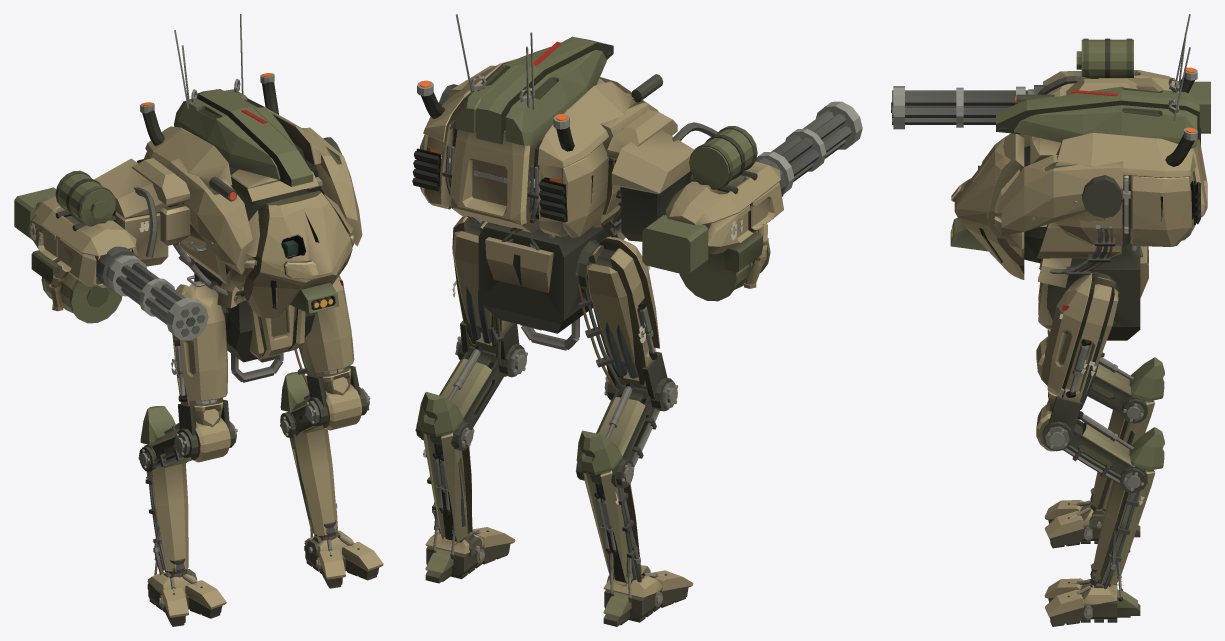
Rendered from rampart-stilt.glb.
The picture shows the model from 3 angles, left to right: view 1: azimuth 30°, elevation 25°; view 2: azimuth 150°, elevation 25°; view 3: azimuth 270°, elevation 25°; orthographic projection. The views are drawn at different scales.
Parts seen in each view (by area): view 1: Part_Torso, Part_Pod_R, Part_Thigh_R, Part_Pelvis, Part_Cannon_R, Part_PodSpin_R, Part_Thigh_L, Part_Cannon_L, Part_Foot_R, Part_Foot_L, Part_Shin_R, Part_Shin_L; view 2: Part_Torso, Part_Pod_R, Part_Pelvis, Part_Thigh_R, Part_Cannon_L, Part_Cannon_R, Part_Shin_R, Part_Shin_L, Part_PodSpin_R, Part_Thigh_L, Part_Foot_R, Part_Foot_L; view 3: Part_Torso, Part_Thigh_L, Part_Pod_R, Part_Pelvis, Part_Cannon_L, Part_PodSpin_R, Part_Shin_L, Part_Foot_L, Part_Cannon_R, Part_Foot_R, Part_Shin_R.
Part boxes in pixels (x1=…): Part_Torso: x1=137, y1=14, x2=362, y2=318; Part_Pod_R: x1=14, y1=158, x2=190, y2=323; Part_Thigh_R: x1=171, y1=281, x2=230, y2=435; Part_Pelvis: x1=194, y1=261, x2=314, y2=382; Part_Cannon_R: x1=138, y1=406, x2=188, y2=576; Part_PodSpin_R: x1=96, y1=246, x2=208, y2=340; Part_Thigh_L: x1=294, y1=275, x2=360, y2=407; Part_Cannon_L: x1=280, y1=372, x2=337, y2=540; Part_Foot_R: x1=147, y1=525, x2=226, y2=626; Part_Foot_L: x1=304, y1=503, x2=383, y2=588; Part_Shin_R: x1=139, y1=417, x2=237, y2=471; Part_Shin_L: x1=280, y1=384, x2=370, y2=437; Part_Torso: x1=412, y1=14, x2=663, y2=238; Part_Pod_R: x1=607, y1=109, x2=783, y2=301; Part_Pelvis: x1=478, y1=221, x2=625, y2=350; Part_Thigh_R: x1=575, y1=236, x2=667, y2=399; Part_Cannon_L: x1=415, y1=392, x2=474, y2=546; Part_Cannon_R: x1=576, y1=430, x2=641, y2=587; Part_Shin_R: x1=576, y1=370, x2=678, y2=487; Part_Shin_L: x1=416, y1=332, x2=527, y2=450; Part_PodSpin_R: x1=756, y1=101, x2=862, y2=196; Part_Thigh_L: x1=452, y1=216, x2=519, y2=363; Part_Foot_R: x1=603, y1=531, x2=693, y2=626; Part_Foot_L: x1=425, y1=501, x2=515, y2=583; Part_Torso: x1=950, y1=14, x2=1207, y2=279; Part_Thigh_L: x1=1041, y1=273, x2=1119, y2=434; Part_Pod_R: x1=1037, y1=38, x2=1210, y2=133; Part_Pelvis: x1=1038, y1=242, x2=1148, y2=340; Part_Cannon_L: x1=1091, y1=427, x2=1164, y2=588; Part_PodSpin_R: x1=891, y1=85, x2=1045, y2=129; Part_Shin_L: x1=1036, y1=405, x2=1145, y2=493; Part_Foot_L: x1=1044, y1=530, x2=1140, y2=626; Part_Cannon_R: x1=1091, y1=357, x2=1164, y2=511; Part_Foot_R: x1=1044, y1=488, x2=1140, y2=548; Part_Shin_R: x1=1036, y1=337, x2=1147, y2=423.
Size of the model in its own units: 3.34 by 5.54 by 2.95.
